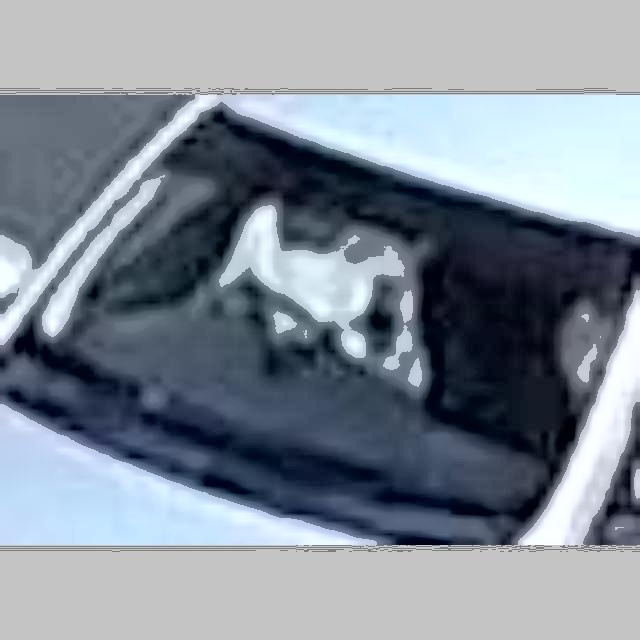tidak-pakai: (218, 172, 415, 426)
